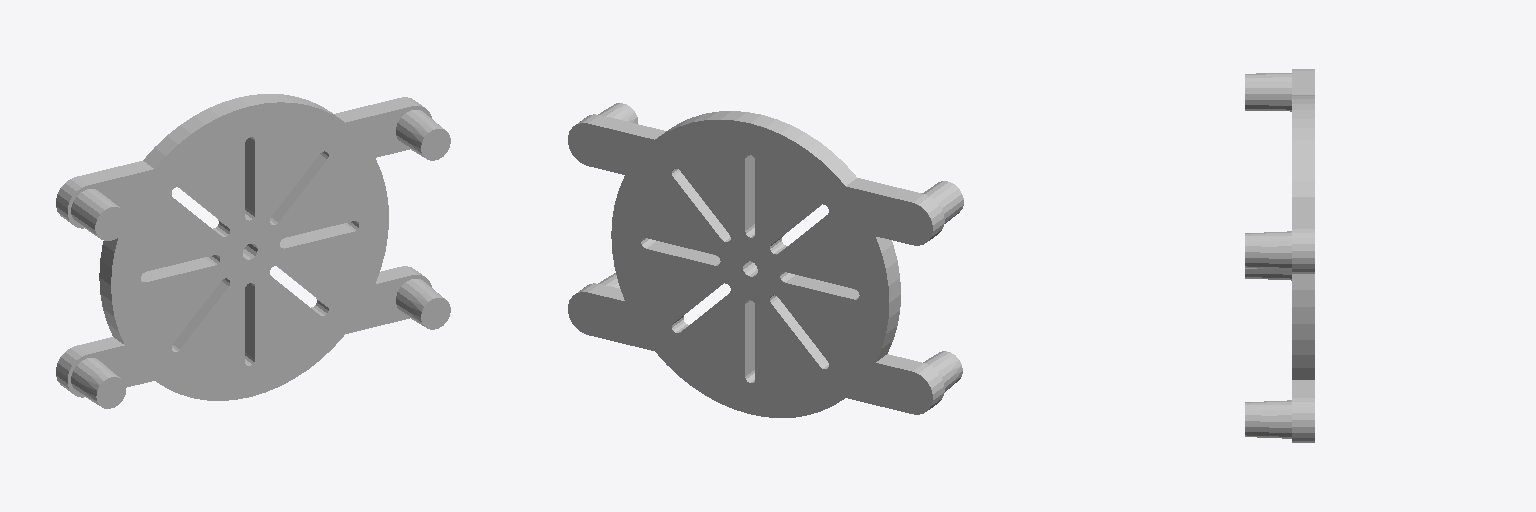
The model's file is Cube 1x1 V5_Laser Alignment Tool V1.obj.
3 renders of one model, left to right at view 1: azimuth 30°, elevation 25°; view 2: azimuth 150°, elevation 25°; view 3: azimuth 270°, elevation 25°, orthographic.
Parts seen in each view (by area): view 1: Solid1:7; view 2: Solid1:7; view 3: Solid1:7.
Boxes of the visible parts, <box> form: Solid1:7: <box>56,94,450,408</box>; Solid1:7: <box>568,103,963,417</box>; Solid1:7: <box>1245,69,1314,442</box>.
Size of the model in its own units: 44.75 by 34.1 by 7.5.